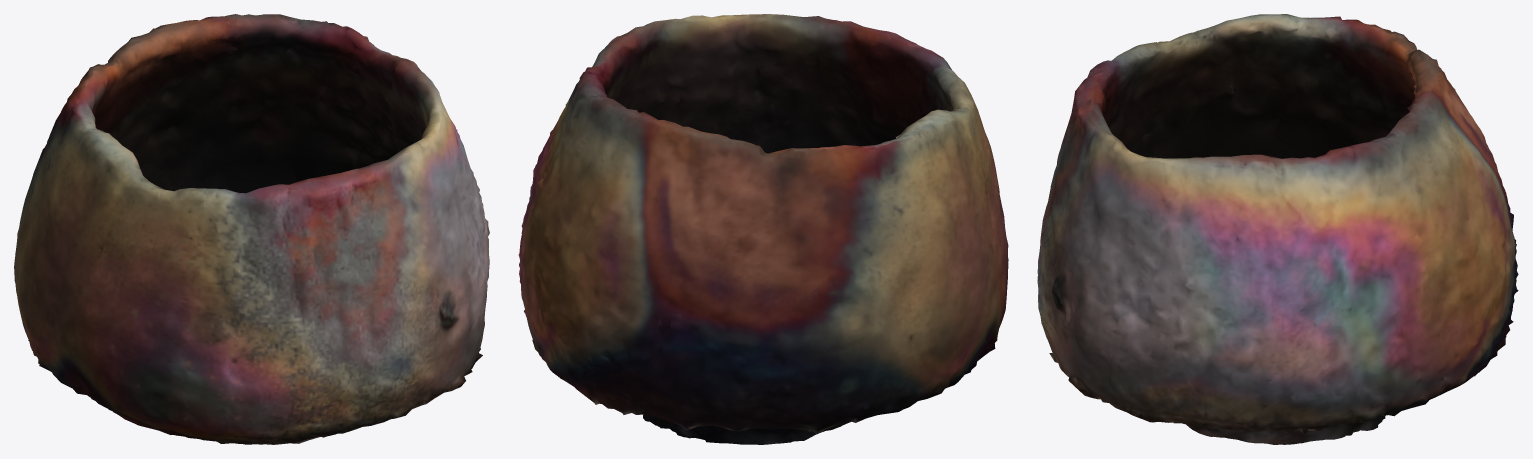
Rendered from Raku.glb.
3 renders of one model, left to right at view 1: azimuth 30°, elevation 25°; view 2: azimuth 150°, elevation 25°; view 3: azimuth 270°, elevation 25°, orthographic. The views are drawn at different scales.
Parts seen in each view (by area): view 1: Raku; view 2: Raku; view 3: Raku.
Part boxes in pixels (left/top/right/bottom): Raku: left=14, top=14, right=489, bottom=444; Raku: left=518, top=14, right=1008, bottom=444; Raku: left=1037, top=14, right=1518, bottom=444.
Size of the model in its own units: 0.1329 by 0.098 by 0.1331.
Materials: 1 (1 with a texture image).
